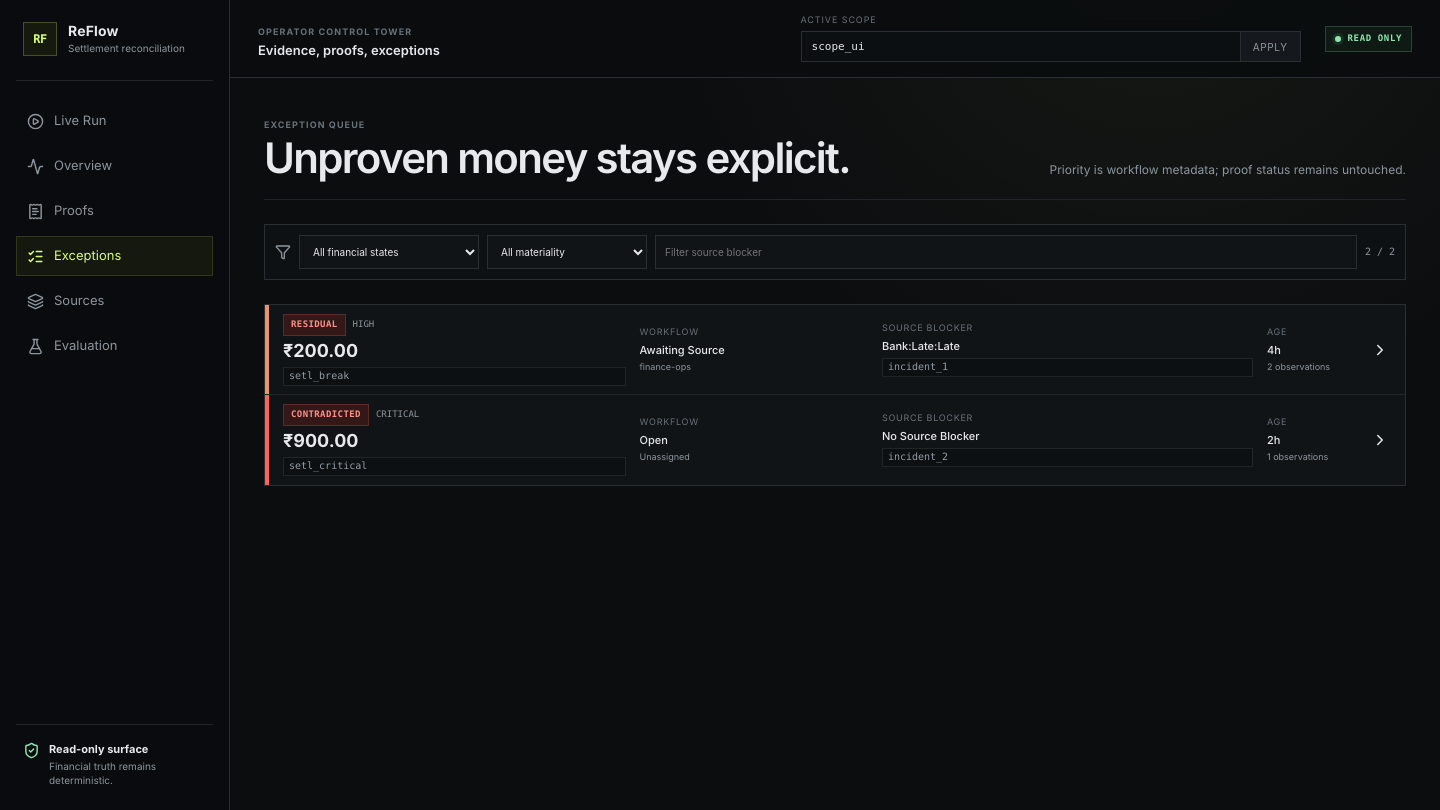
Test: ReFlow control tower › filters exception rows client-side without changing source data
This screenshot has width=1440, height=810.
Expected: the text "₹200.00" is shown, [283,341,358,362]
Expected: the text "₹900.00" is shown, [283,431,358,452]
Select "critical" in the dropdown named "Materiality" at (567, 252), box [487,235,647,269]
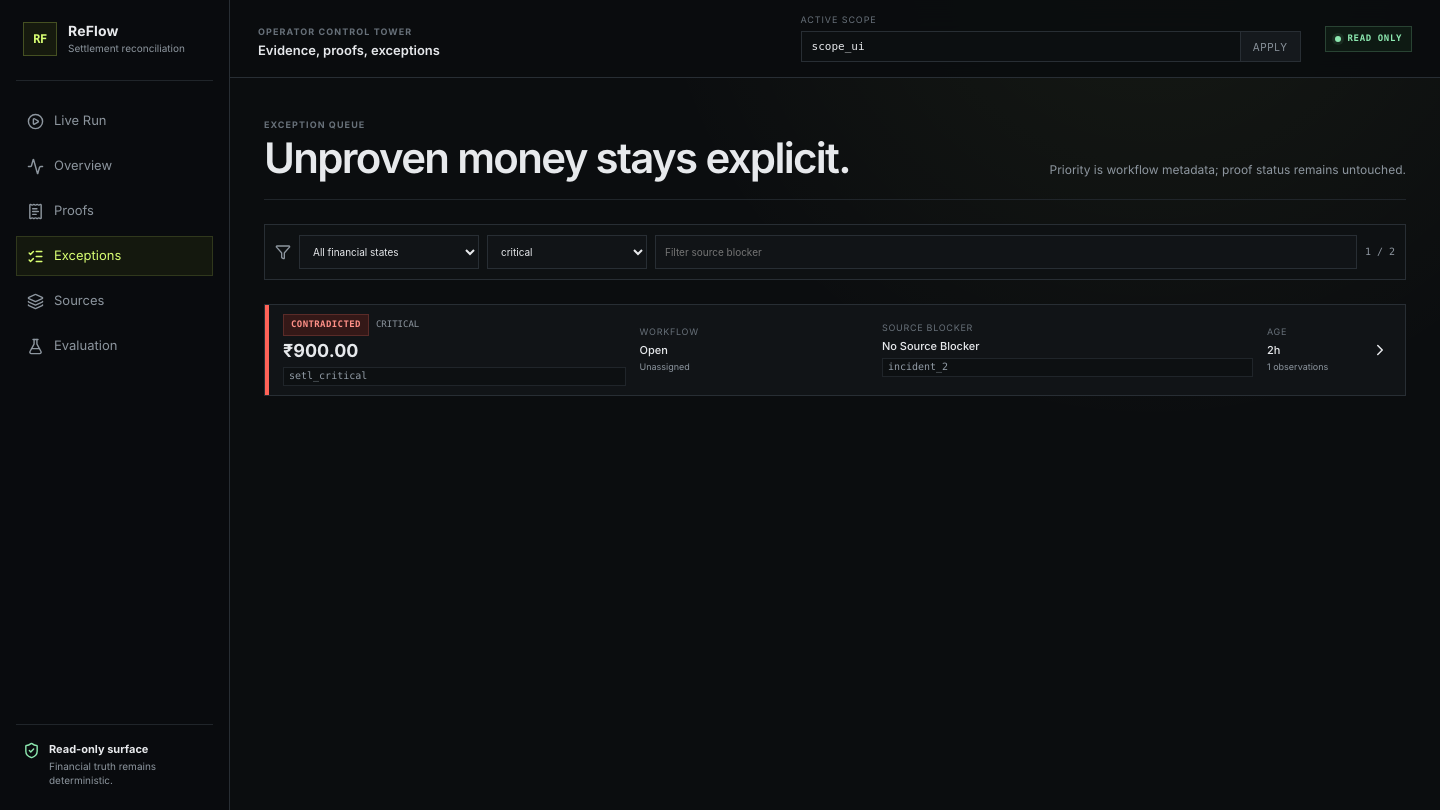
Expected: the text "₹900.00" is shown, [283,341,358,362]
Now no links "₹200.00" are shown
